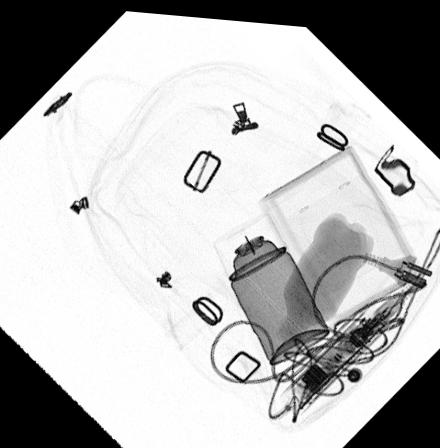Sprayer: (211, 208, 329, 362)
